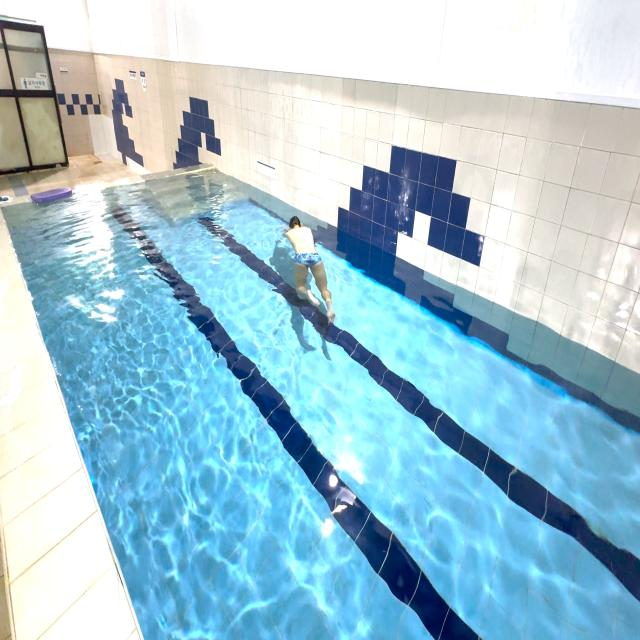Swimming: (272, 202, 339, 340)
